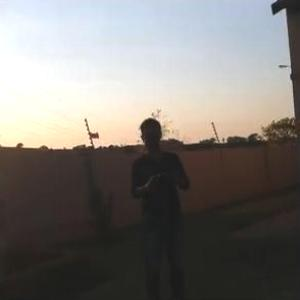follow: (128, 111, 199, 299)
